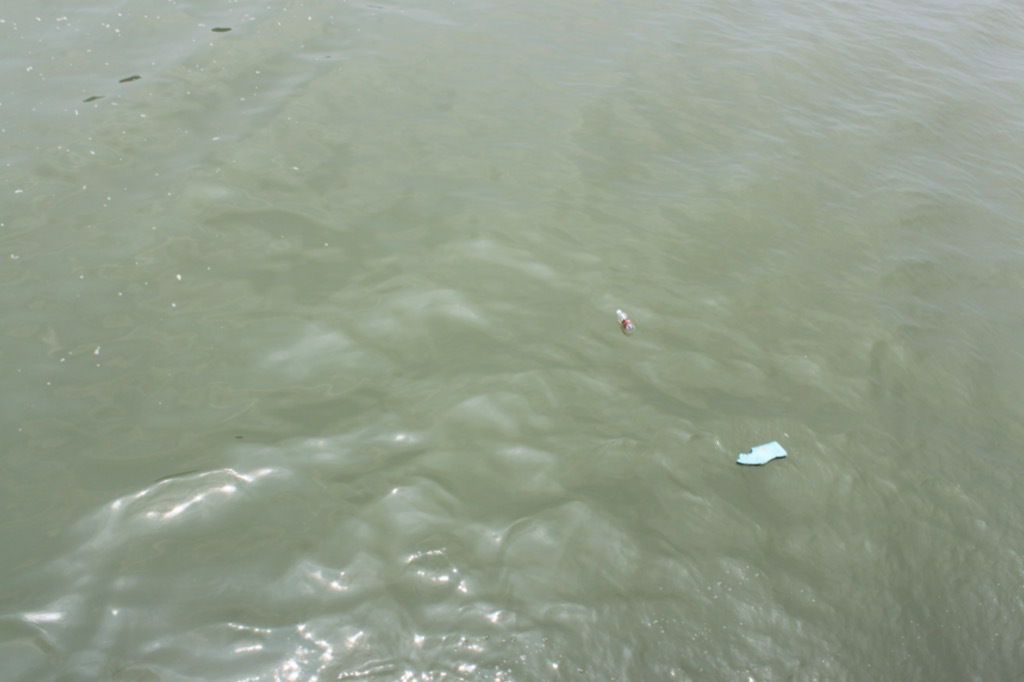plastic: (718, 419, 802, 489), (590, 294, 665, 350)
